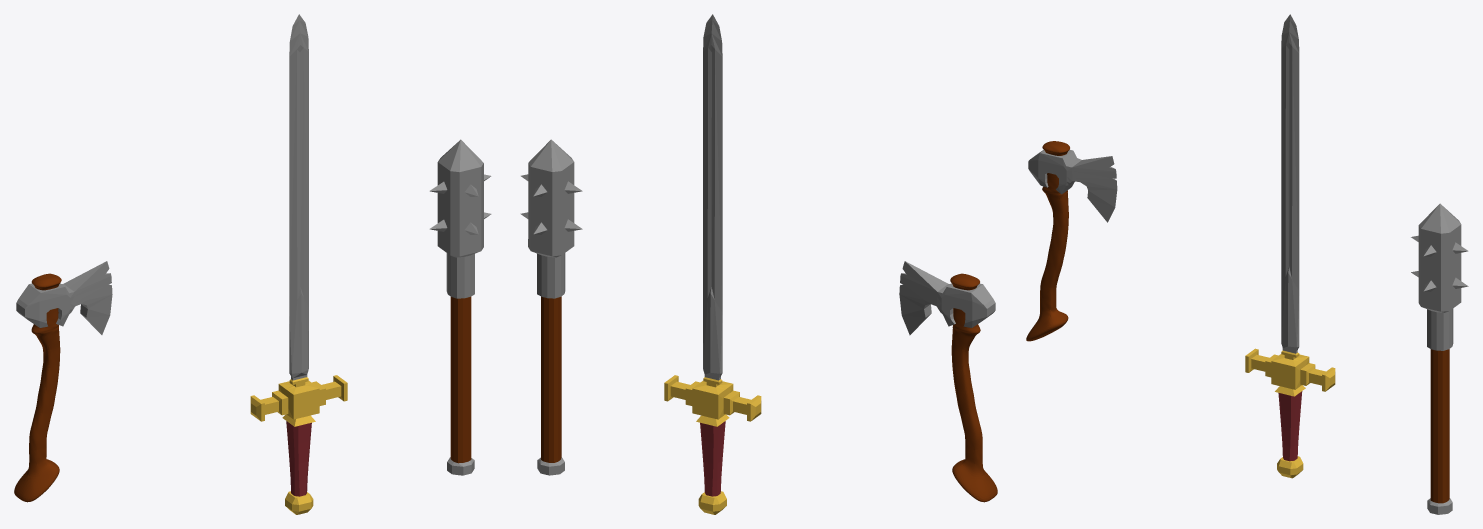
The model's file is HomeWork24Weapons.fbx.
3 views of the same model, side by side, from view 1: azimuth 30°, elevation 25°; view 2: azimuth 150°, elevation 25°; view 3: azimuth 330°, elevation 25° (orthographic). The views are drawn at different scales.
Visible parts, largest first — view 1: Sword, Mase, Axe, AxeHead; view 2: Sword, Mase, Axe, AxeHead; view 3: Sword, Mase, Axe, AxeHead.
Part boxes in pixels (bbox=[...]): Sword: bbox=[250, 14, 347, 514]; Mase: bbox=[429, 139, 491, 475]; Axe: bbox=[14, 273, 61, 502]; AxeHead: bbox=[16, 261, 112, 334]; Sword: bbox=[664, 14, 761, 514]; Mase: bbox=[520, 139, 582, 475]; Axe: bbox=[950, 273, 997, 502]; AxeHead: bbox=[899, 261, 995, 335]; Sword: bbox=[1245, 14, 1335, 478]; Mase: bbox=[1411, 203, 1468, 514]; Axe: bbox=[1026, 141, 1069, 341]; AxeHead: bbox=[1028, 150, 1117, 222].
Size of the model in its own units: 1434 by 1439 by 188.
